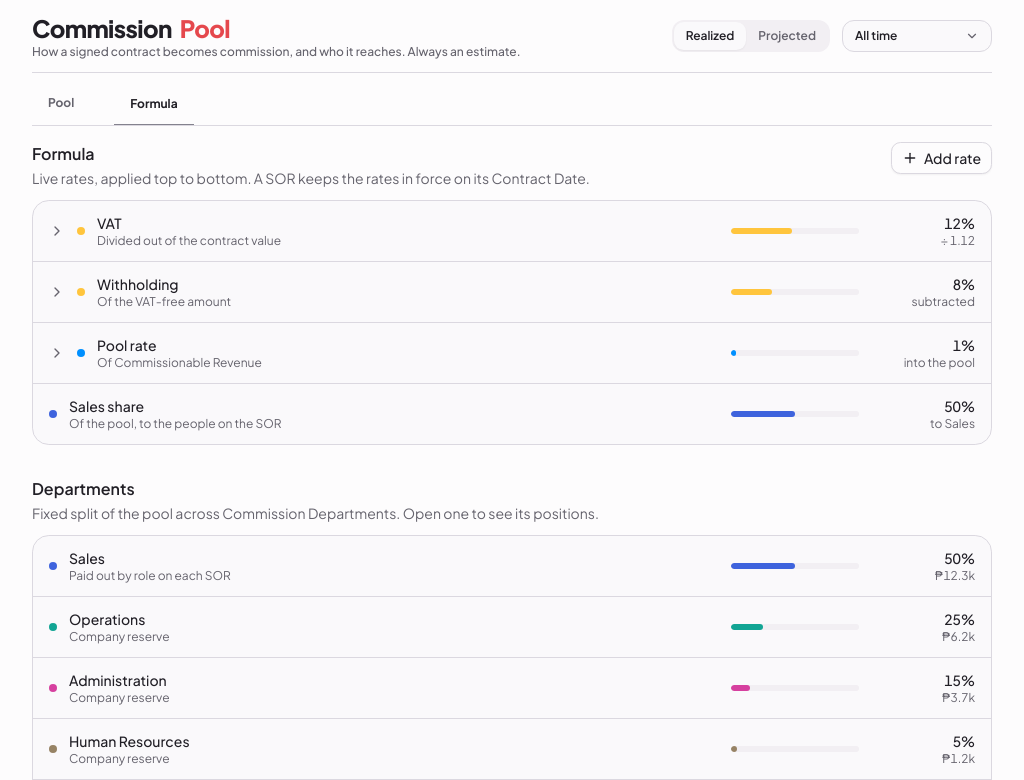
Test: CommissionDashboardView › Formula tab › Commission Rates › lets a Super Admin add an effective-dated rate
The width and height of the screenshot is (1024, 780).
Click the button "Add rate".
click(942, 158)  # box [891,142,992,174]
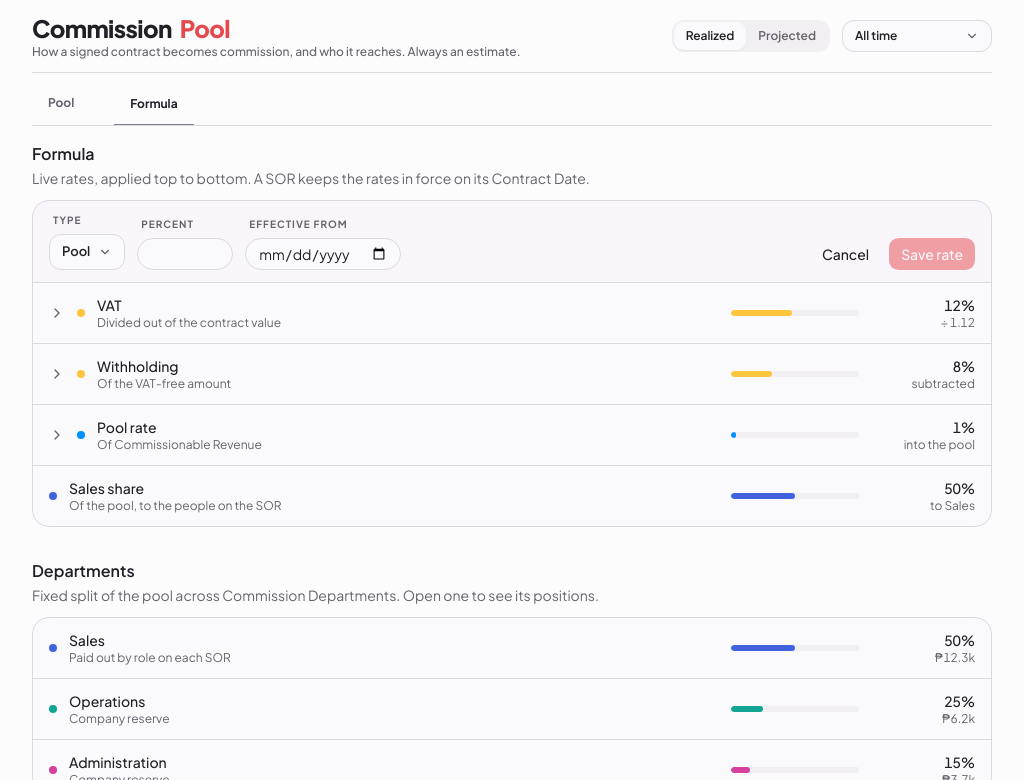
Type "2.5" into the number field named "Rate percent".
click(185, 254); type("2.5")  # box [137,238,233,270]
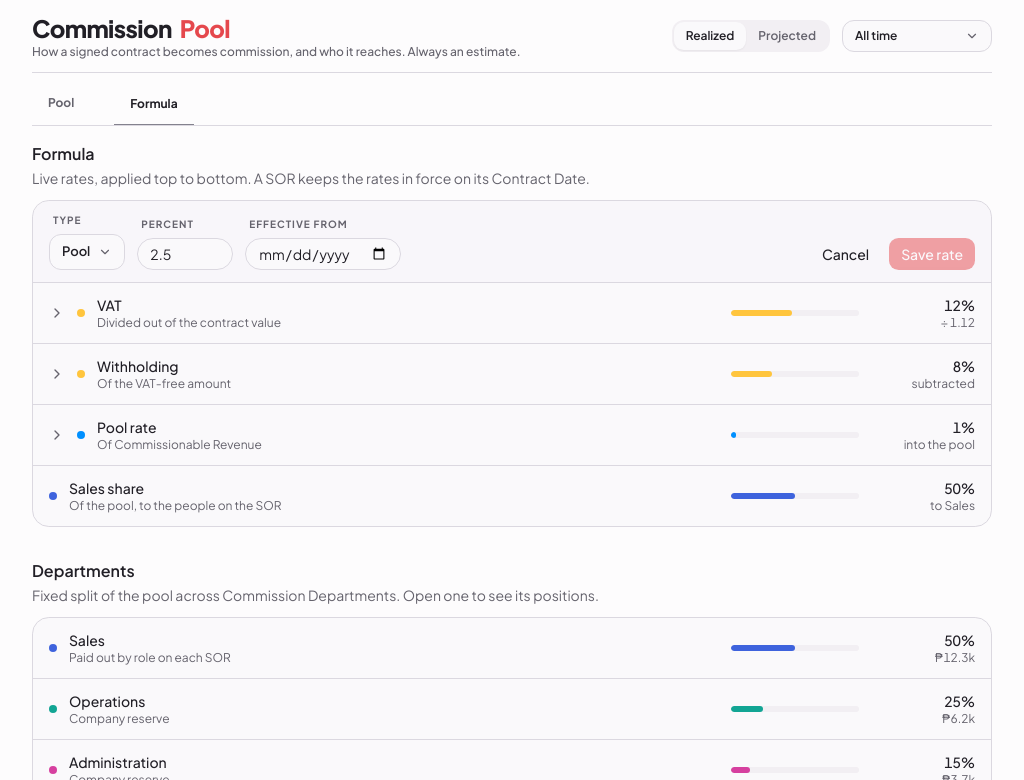
Type "2026-11-01" into the date field labelled "Effective from".
click(323, 254); type("2026-11-01")  # box [245,238,401,270]
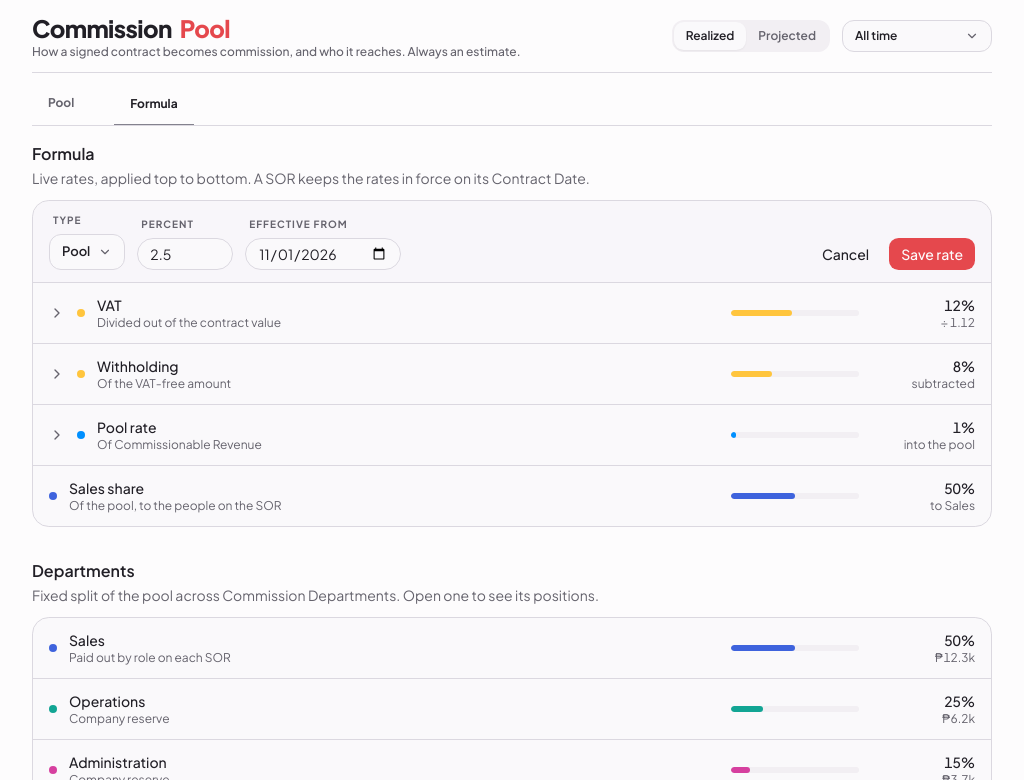
Click the button "Save rate".
click(932, 254)  # box [889,238,975,270]
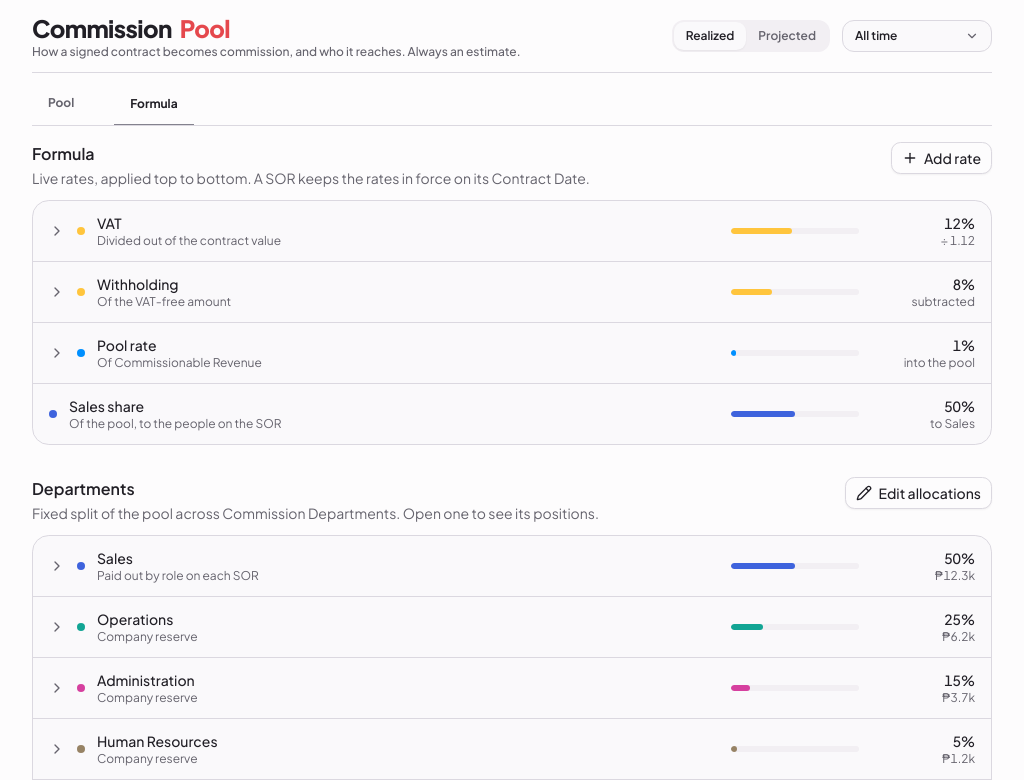
Now the number field labelled "Rate percent" is gone
